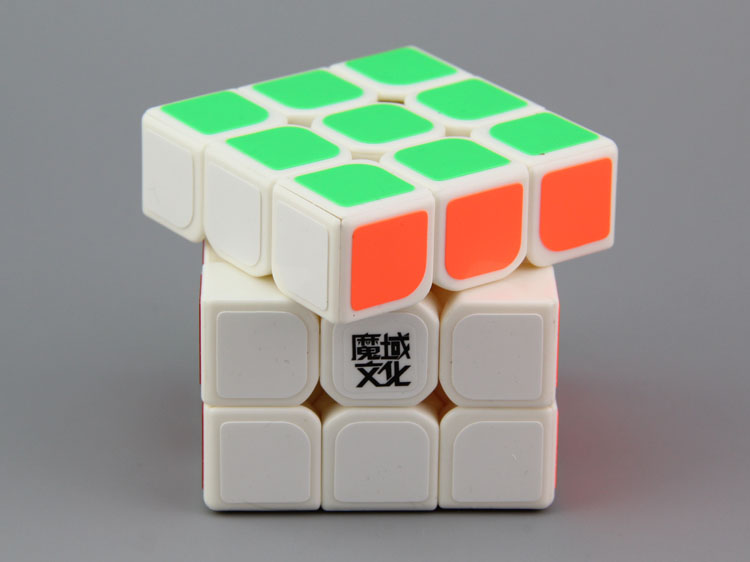cube: (124, 36, 633, 527)
